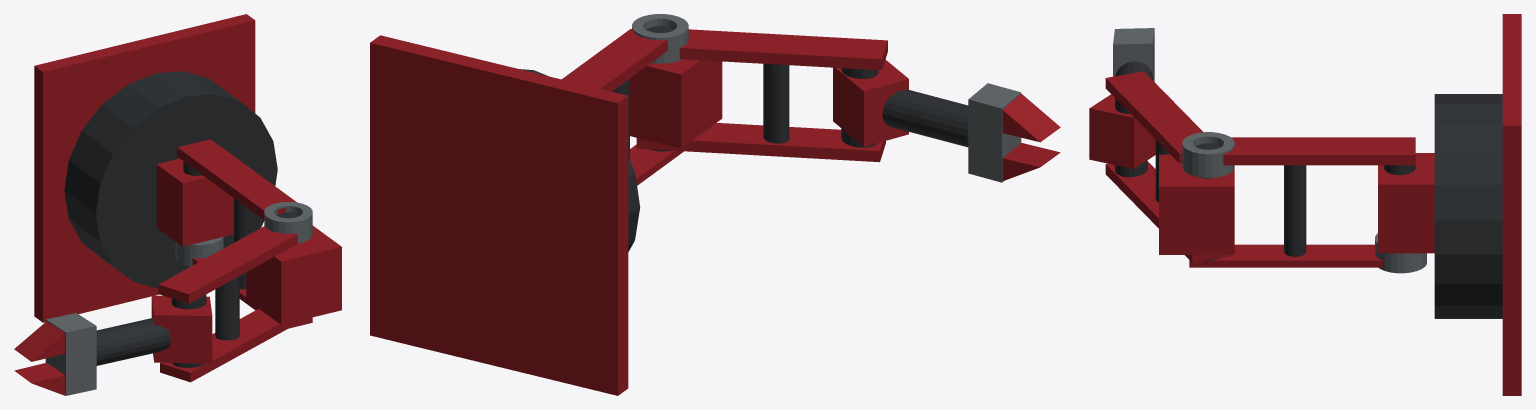
The model's file is tinker.obj.
The picture shows the model from 3 angles, left to right: view 1: azimuth 30°, elevation 25°; view 2: azimuth 150°, elevation 25°; view 3: azimuth 270°, elevation 25°; orthographic projection. The views are drawn at different scales.
Parts seen in each view (by area): view 1: group_0_9771553, group_0_2829873, group_0_6383466; view 2: group_0_9771553, group_0_2829873, group_0_6383466; view 3: group_0_9771553, group_0_2829873, group_0_6383466.
Boxes of the visible parts, x1,y1,x2,y2 form: group_0_9771553: [14, 14, 341, 395]; group_0_2829873: [64, 71, 300, 367]; group_0_6383466: [45, 202, 312, 395]; group_0_9771553: [370, 29, 1060, 395]; group_0_2829873: [519, 26, 968, 251]; group_0_6383466: [632, 14, 1021, 182]; group_0_9771553: [1089, 14, 1521, 395]; group_0_2829873: [1115, 61, 1502, 318]; group_0_6383466: [1113, 28, 1426, 273].
Size of the model in its own units: 133 by 79 by 114.
